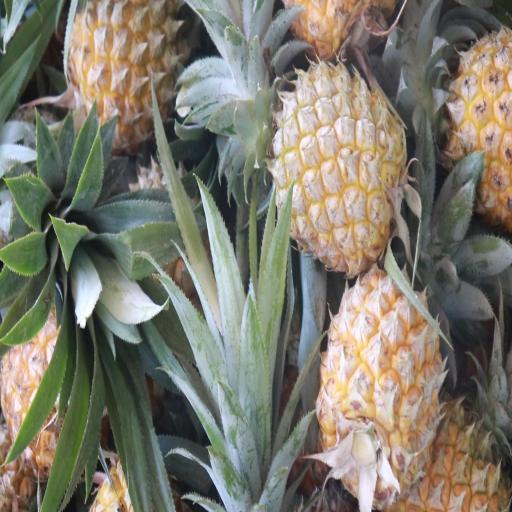------------------------------: (68, 0, 185, 149)
Pineapple - v8 v1: (269, 61, 405, 271), (320, 267, 438, 498), (370, 379, 512, 511), (428, 2, 512, 220)
